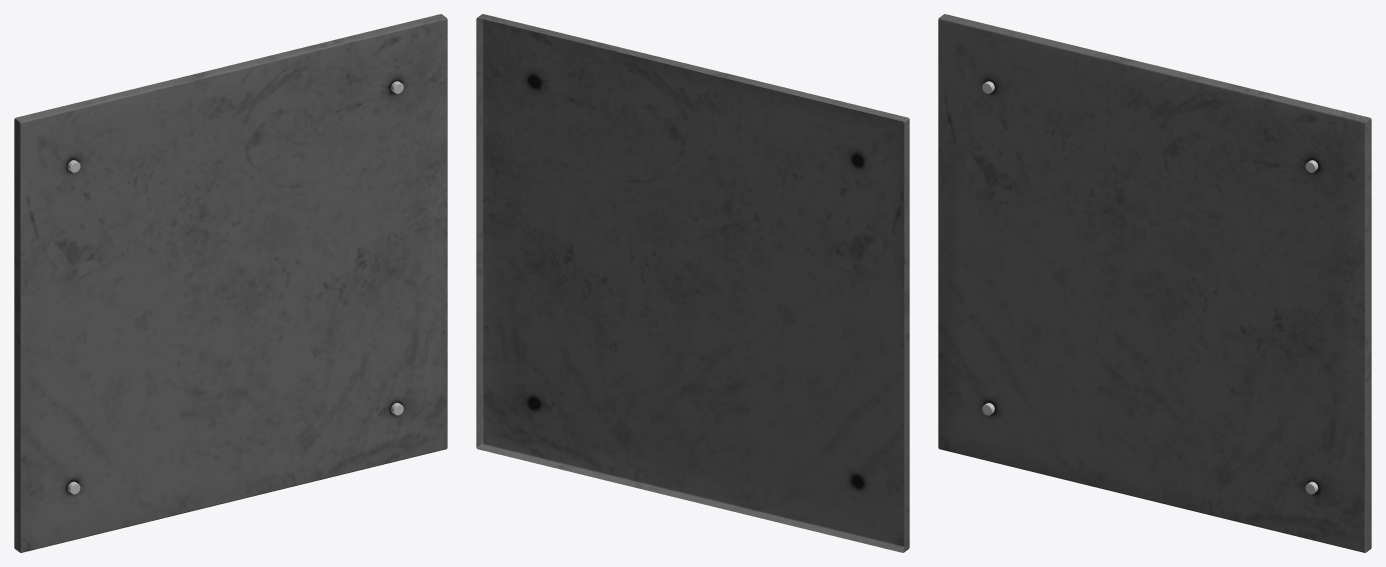
Rendered from zerkalo.glb.
3 renders of one model, left to right at view 1: azimuth 30°, elevation 25°; view 2: azimuth 150°, elevation 25°; view 3: azimuth 330°, elevation 25°, orthographic.
Parts seen in each view (by area): view 1: mirror; view 2: mirror; view 3: mirror.
Part boxes in pixels (box(x1,y1,x2,y2)): mirror: box(14, 14, 447, 552); mirror: box(476, 14, 909, 552); mirror: box(938, 14, 1371, 552).
Size of the model in its own units: 0.83 by 0.8 by 0.03.
Materials: 1 (1 with a texture image).
